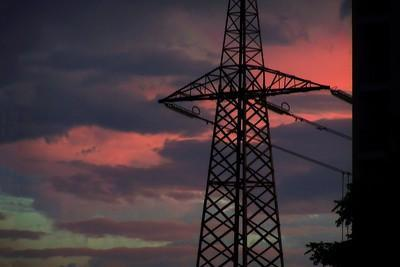power_tower: (153, 3, 331, 267)
